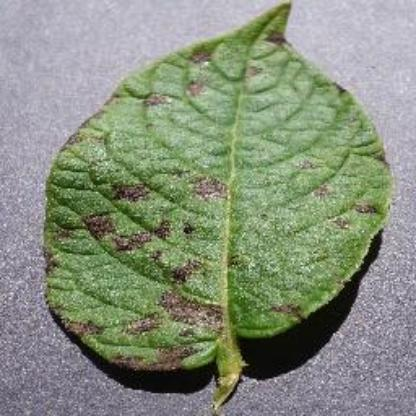Early-Blight: (40, 11, 400, 405)
